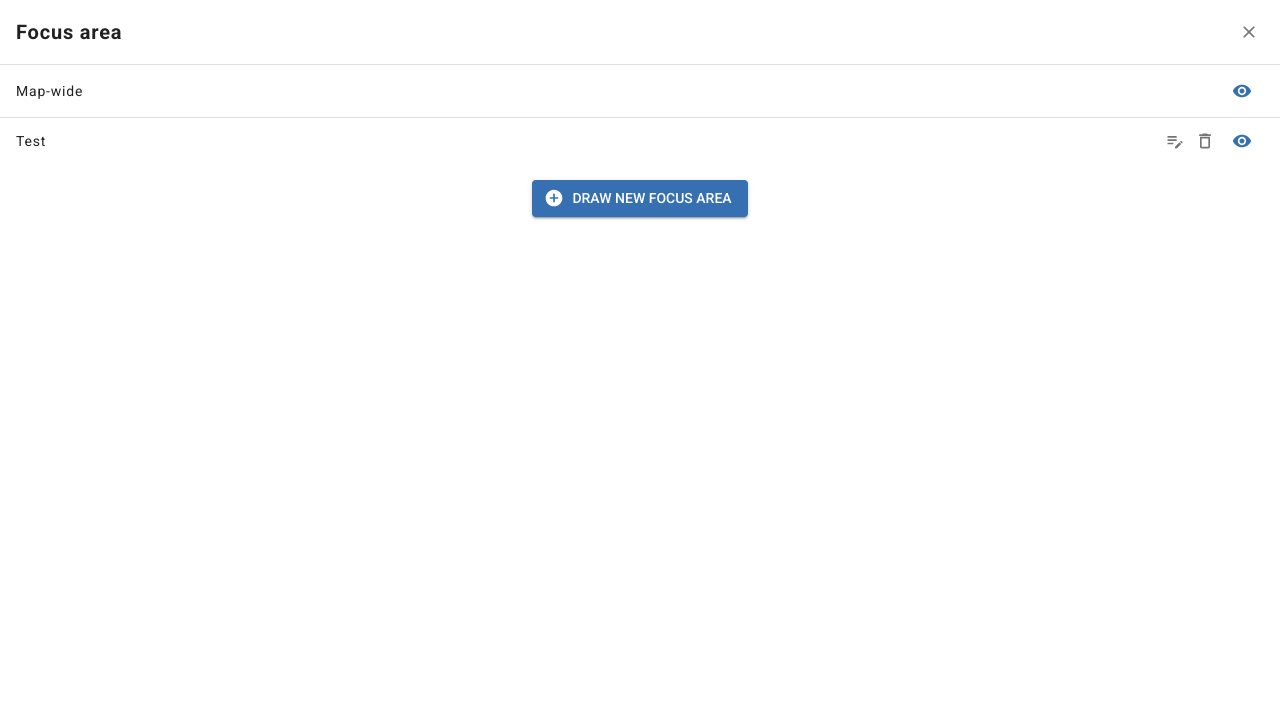
FocusAreaView › Focus Area Actions › shows error snackbar when visibility update fails
The width and height of the screenshot is (1280, 720).
Expected: the text "Test" is shown, [16,133,46,149]
What coordinates should you click on to do the following:
click the button named "Hide focus area"
I would click on:
 (1242, 141)
Its box is [1228,127,1256,155].
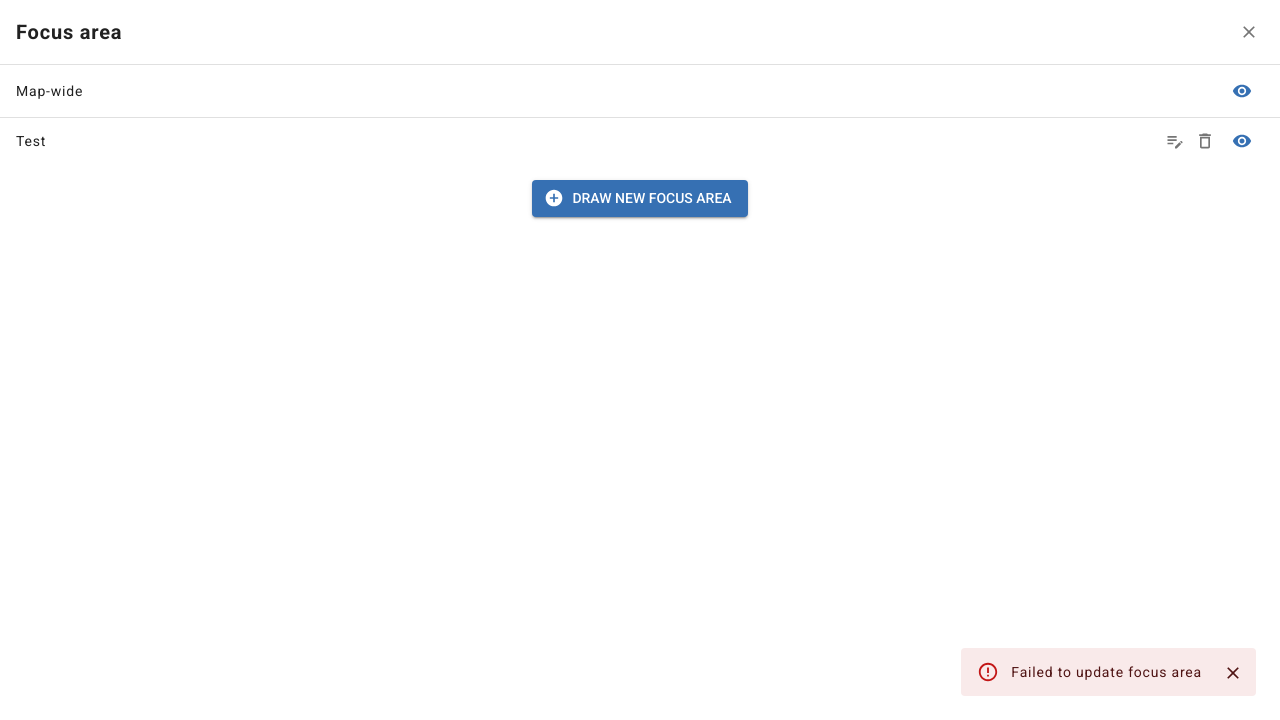
Expected: the text "Failed to update focus area" is shown, [1011,664,1202,680]
